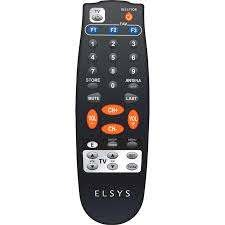remote control: (73, 0, 152, 225)
